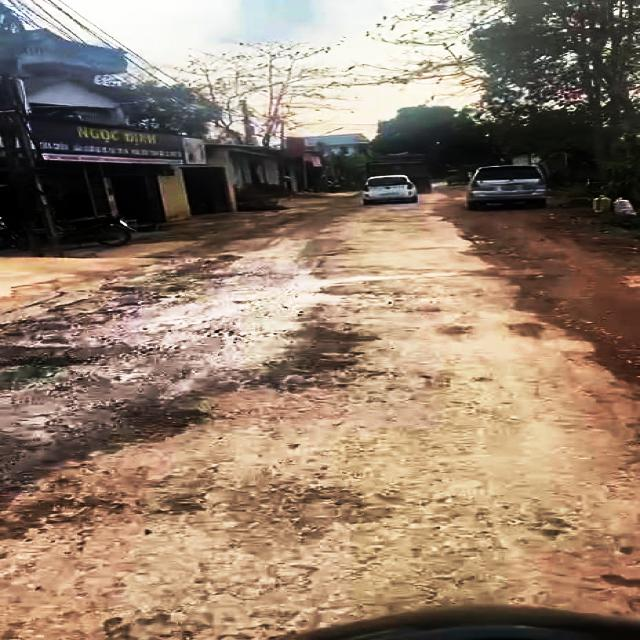pothole: (62, 402, 211, 458)
